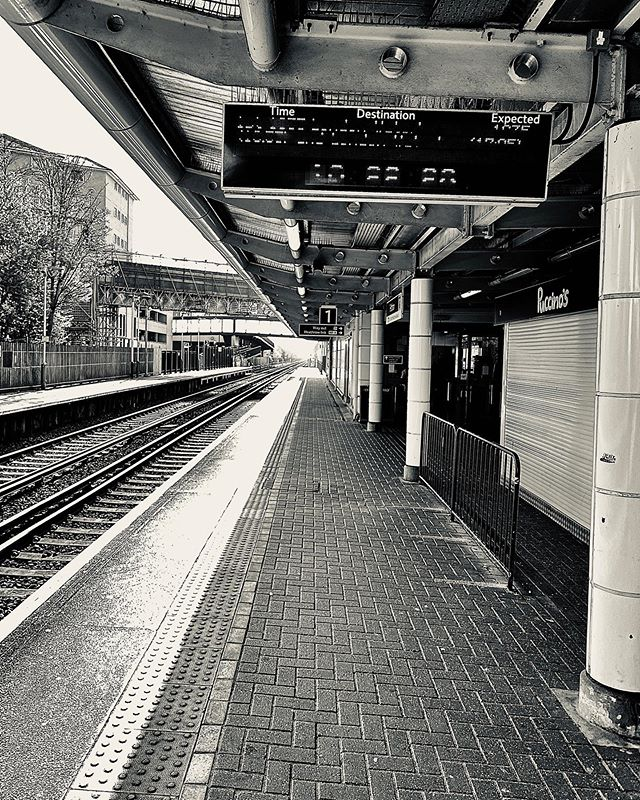sign: (214, 105, 538, 203)
train track: (1, 357, 273, 620)
tree: (1, 149, 120, 366)
